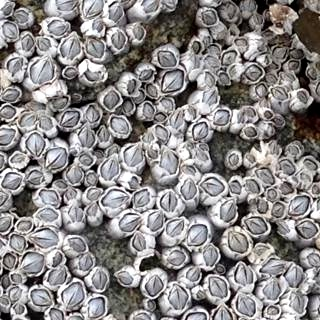Barnacle: (29, 57, 55, 84), (101, 189, 131, 209), (62, 283, 86, 308), (28, 230, 59, 249), (59, 36, 82, 61), (185, 225, 209, 248), (162, 70, 184, 95), (227, 230, 249, 255), (123, 143, 145, 167), (100, 155, 120, 181), (168, 285, 188, 311), (46, 148, 68, 171), (22, 253, 46, 274), (143, 276, 165, 298), (27, 133, 46, 158), (160, 150, 179, 175), (200, 178, 225, 197), (237, 293, 256, 318), (290, 197, 312, 218), (119, 213, 142, 233), (81, 0, 105, 19), (78, 124, 96, 148), (236, 263, 254, 287), (296, 219, 317, 239), (260, 280, 280, 301), (160, 191, 179, 213), (285, 265, 304, 287), (247, 218, 270, 236), (220, 199, 237, 223), (85, 38, 105, 58), (61, 110, 81, 130), (209, 277, 227, 299), (290, 289, 305, 314), (88, 297, 105, 319), (182, 178, 198, 201), (32, 289, 52, 307), (262, 259, 285, 274), (202, 89, 220, 108), (3, 172, 22, 190), (112, 116, 129, 136), (166, 251, 186, 268), (148, 211, 164, 232), (212, 109, 230, 127), (0, 128, 18, 146), (48, 269, 66, 287), (192, 123, 209, 142), (56, 0, 79, 14), (170, 109, 185, 130), (204, 245, 218, 267), (279, 159, 297, 176), (257, 168, 275, 185), (168, 220, 185, 238), (39, 190, 58, 206), (108, 3, 123, 23), (112, 30, 127, 50), (158, 52, 178, 67), (10, 234, 25, 254), (79, 251, 94, 271), (2, 22, 18, 40), (20, 112, 38, 128), (67, 167, 83, 185), (48, 22, 70, 35), (93, 271, 108, 290), (214, 304, 233, 319), (270, 88, 290, 102), (221, 50, 237, 67), (245, 65, 262, 81), (104, 92, 120, 109), (118, 271, 135, 287), (28, 170, 46, 185), (135, 191, 150, 209), (85, 69, 105, 82), (38, 209, 58, 222), (8, 59, 23, 76), (70, 238, 87, 253), (133, 234, 147, 252), (14, 10, 30, 25), (202, 11, 218, 26), (278, 182, 294, 197), (87, 106, 101, 123), (21, 35, 34, 53), (40, 117, 55, 132), (0, 106, 16, 120), (9, 287, 23, 303), (256, 199, 269, 216), (38, 38, 52, 53), (205, 55, 220, 69), (246, 179, 260, 194), (51, 253, 64, 269), (272, 47, 289, 59), (3, 90, 20, 102), (156, 126, 168, 143), (278, 220, 290, 237), (188, 266, 200, 283), (99, 126, 110, 144), (272, 203, 285, 218), (70, 207, 83, 222), (0, 217, 13, 232), (17, 221, 32, 234), (3, 254, 16, 269), (147, 83, 159, 99), (86, 189, 102, 201), (143, 105, 154, 122), (280, 72, 295, 84), (123, 99, 135, 114), (205, 72, 216, 88), (161, 98, 174, 111), (79, 155, 93, 167), (307, 253, 319, 267), (49, 308, 64, 319), (134, 25, 144, 41), (52, 99, 68, 109), (270, 141, 280, 157), (243, 0, 255, 13), (287, 144, 300, 156), (230, 181, 242, 194), (87, 204, 98, 218), (254, 246, 268, 257), (139, 71, 154, 81), (2, 4, 14, 16), (245, 127, 257, 139), (143, 132, 155, 144), (14, 304, 26, 316), (267, 306, 280, 317), (257, 85, 267, 99), (305, 160, 319, 170), (302, 169, 312, 183), (11, 155, 26, 164), (296, 92, 308, 103), (148, 148, 159, 160), (87, 173, 98, 185), (66, 189, 77, 201), (64, 68, 77, 78), (245, 108, 258, 118), (196, 152, 209, 162), (247, 153, 257, 166), (184, 165, 197, 175), (291, 49, 305, 58), (273, 115, 284, 126), (128, 178, 139, 189), (220, 73, 230, 85), (128, 79, 136, 94), (229, 155, 239, 167), (135, 91, 144, 104), (227, 4, 235, 18), (265, 76, 279, 84), (3, 276, 11, 290), (93, 21, 103, 32), (107, 146, 118, 156), (155, 113, 167, 122), (237, 112, 245, 125), (210, 46, 221, 55), (289, 62, 300, 71), (308, 69, 317, 80), (235, 39, 247, 47), (193, 42, 201, 54), (265, 125, 273, 137), (173, 133, 185, 141), (185, 148, 193, 160), (95, 151, 105, 160), (56, 181, 67, 189), (311, 185, 319, 196), (254, 16, 263, 25), (261, 100, 270, 109), (0, 297, 9, 306), (268, 190, 276, 200), (196, 290, 204, 300), (203, 37, 211, 46)
